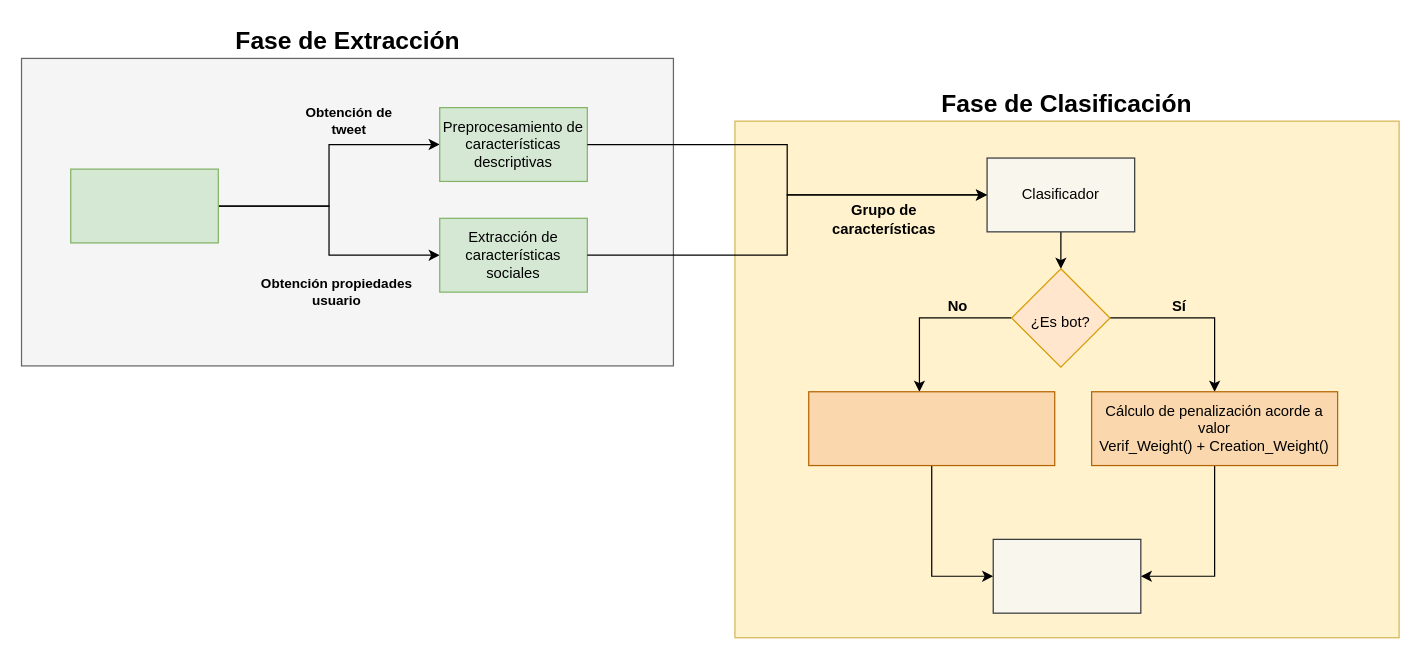
Image size: 1421x659. Some labels were removed from this diagram. Here are the shapes that lost their labels. From the top down, the centre of each, then its label:
At (143,205): "Usuario".
At (931,428): "Retorna valor Verif_Weight() + Creation_Weight()".
At (1066,575): "T-CREo".
